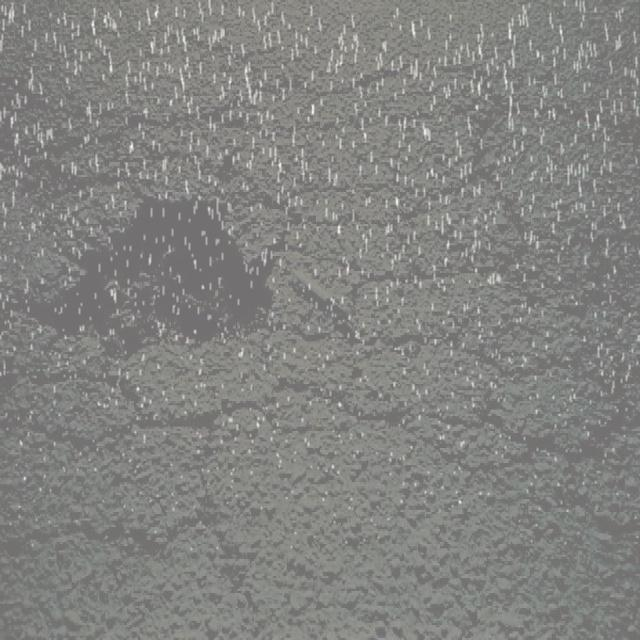Pothole: (29, 176, 297, 367)
